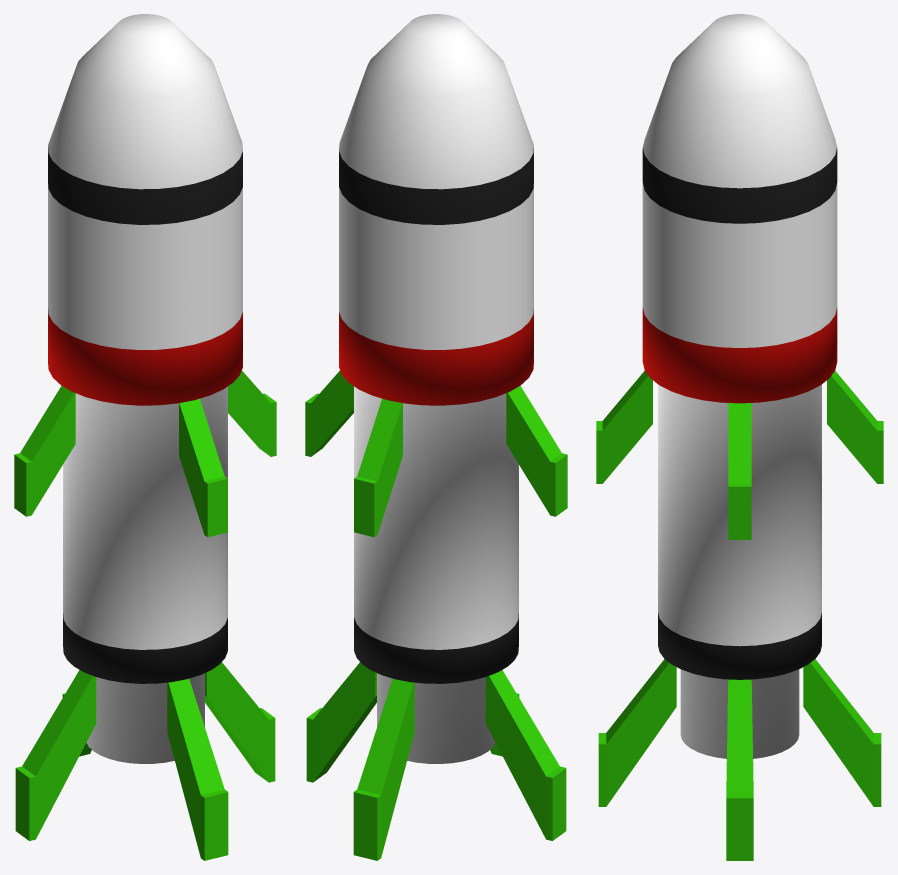
Rendered from missile.fbx.
3 views of the same model, side by side, from view 1: azimuth 30°, elevation 25°; view 2: azimuth 150°, elevation 25°; view 3: azimuth 270°, elevation 25° (orthographic).
Visible parts, largest first — view 1: missile_mesh; view 2: missile_mesh; view 3: missile_mesh.
Part boxes in pixels (<box>): missile_mesh: <box>14,14,276,860</box>; missile_mesh: <box>305,14,567,860</box>; missile_mesh: <box>596,14,883,860</box>.
Size of the model in its own units: 0.7907 by 2.35 by 0.7907.
